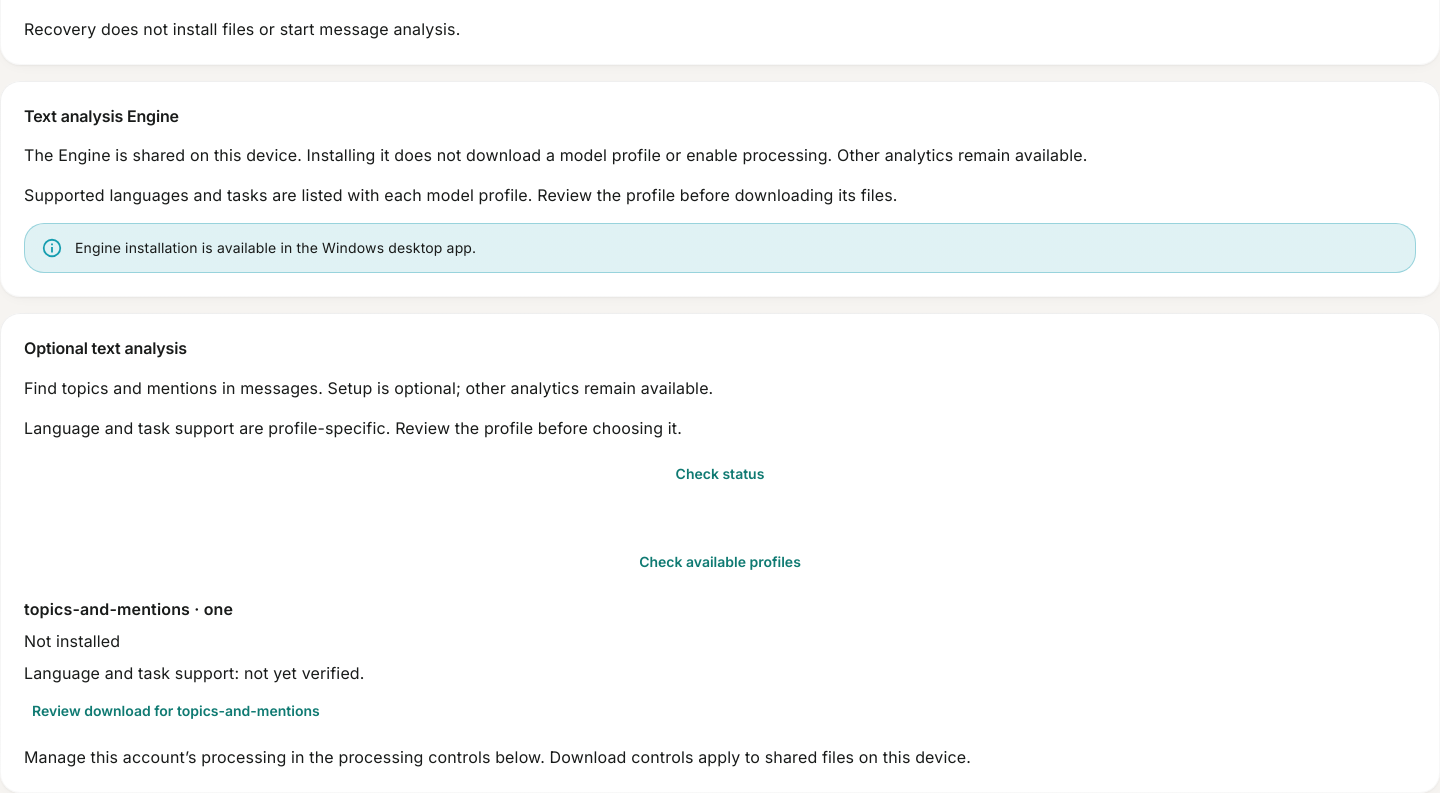
NlpDependencyControls › uses fresh plan metadata when the cached profile has no support or resource metadata
This screenshot has width=1440, height=793.
(page scrolled)
Expected: the text "Language and task support: not yet verified." is shown, top-left (24, 663), bottom-right (365, 683)
Click the button "Review download for topics-and-mentions" at (176, 711), box top-left (24, 693), bottom-right (328, 729)
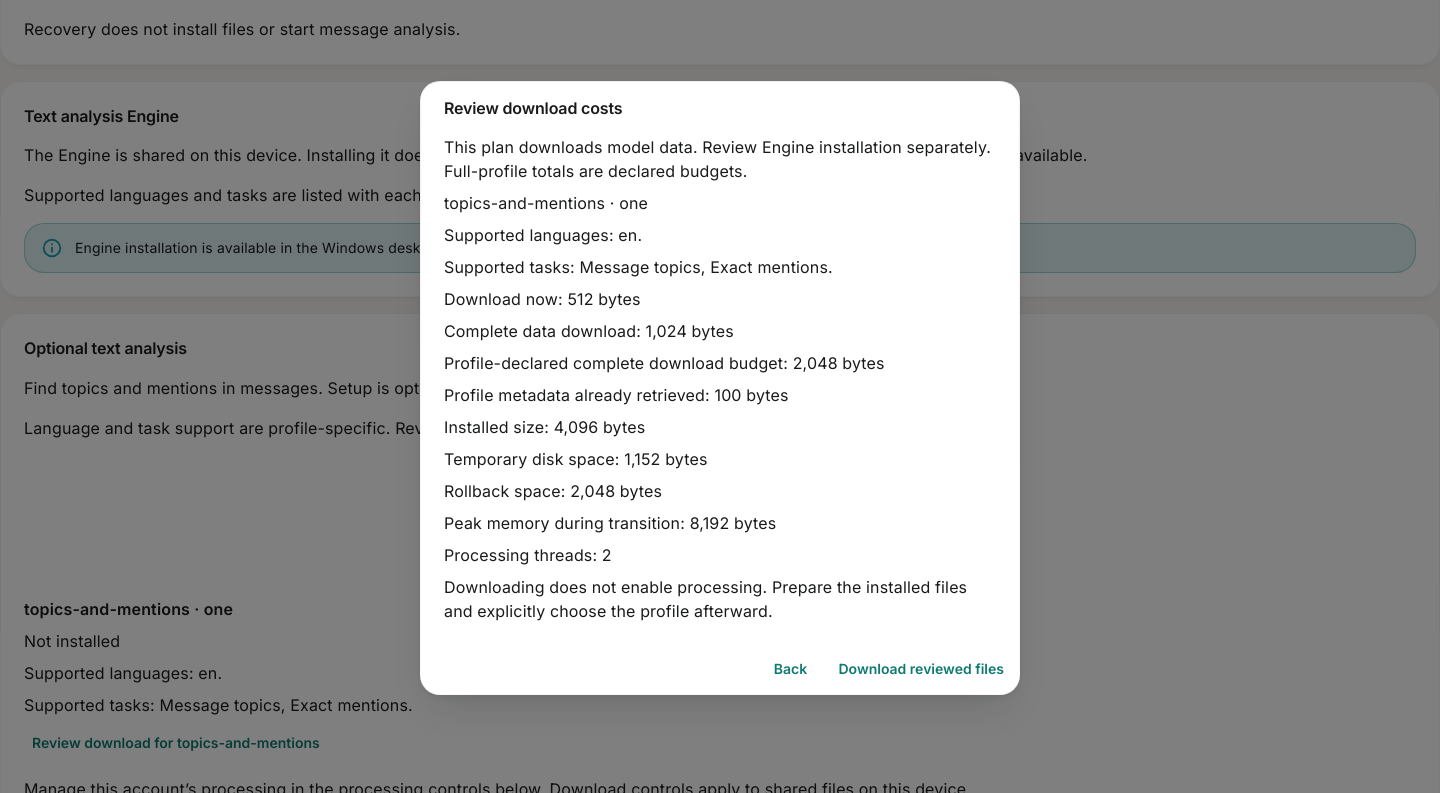
Now the dialog "Review download costs" is shown, box top-left (420, 80), bottom-right (1020, 695)
Now the text "Supported languages: en." is shown, box top-left (444, 225), bottom-right (642, 245)
Now the text "Supported tasks: Message topics, Exact mentions." is shown, box top-left (444, 257), bottom-right (833, 277)
